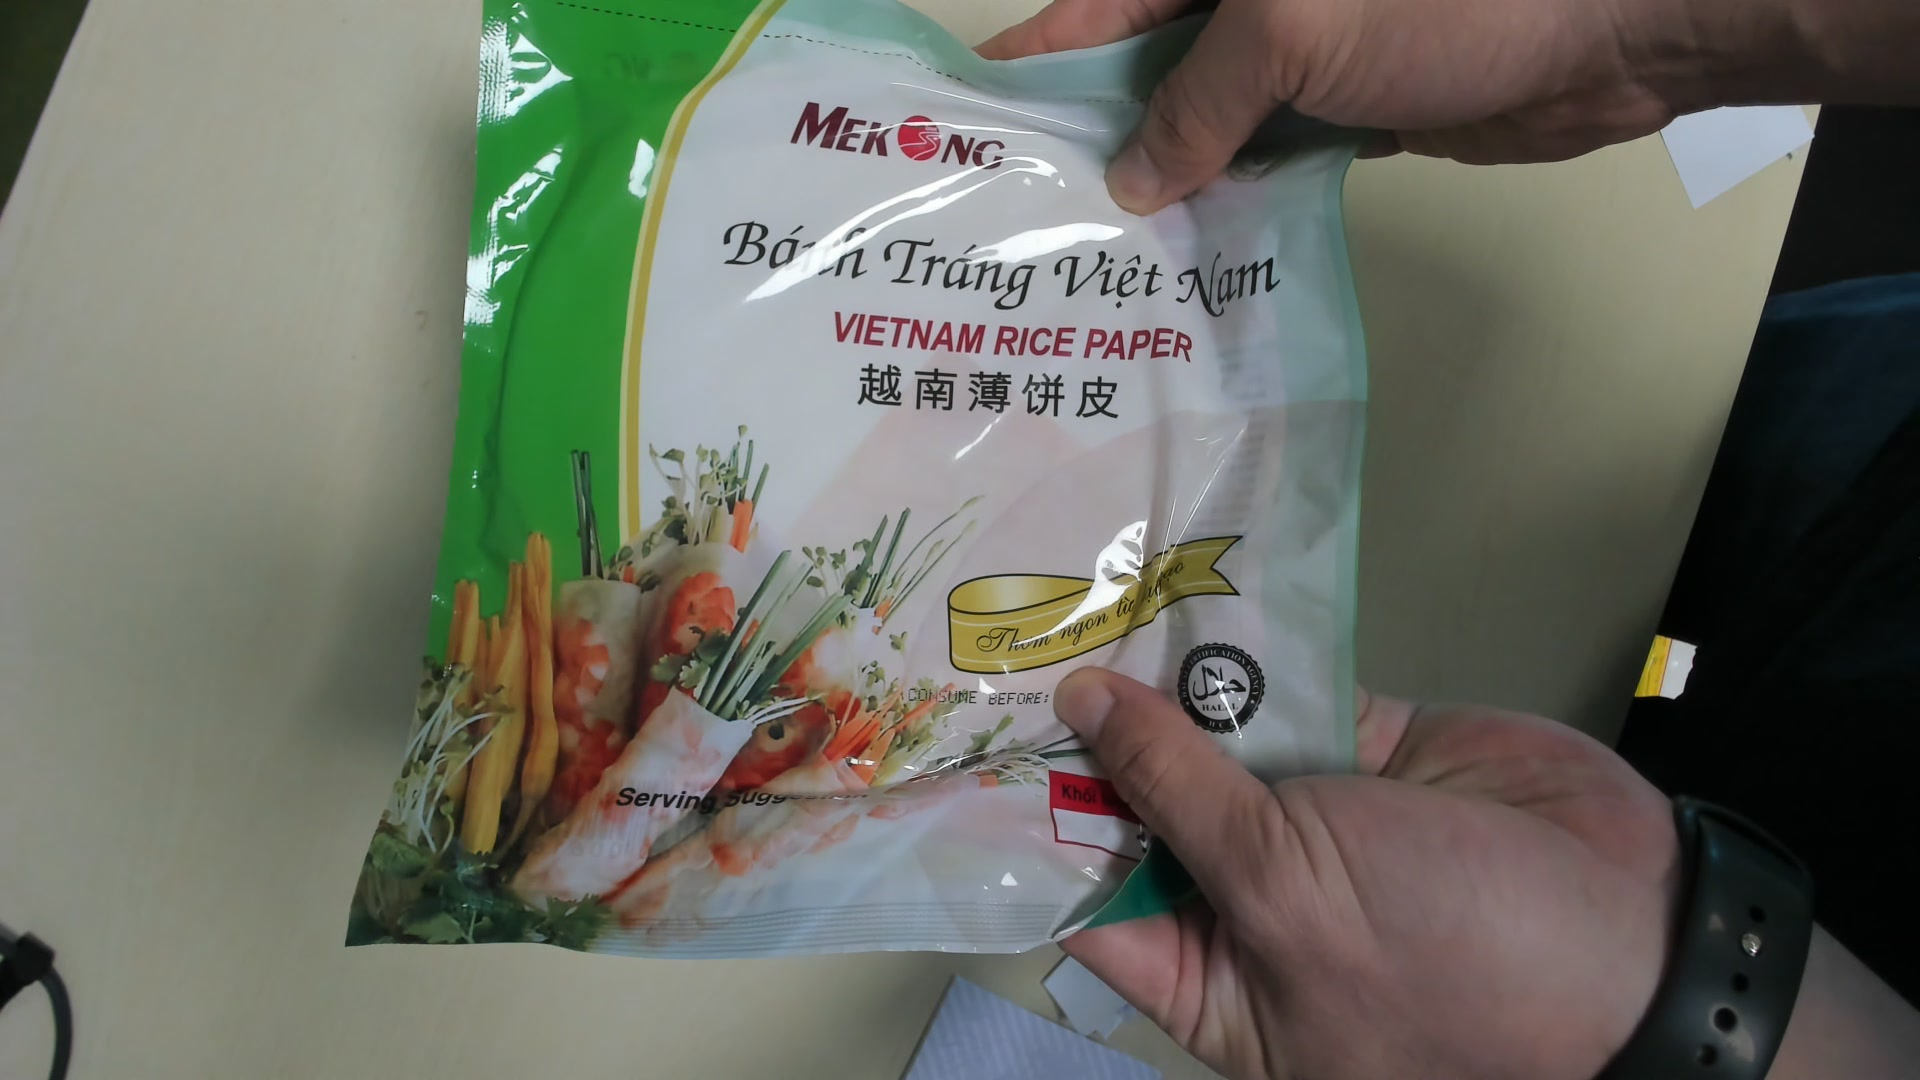InstantMeals_300_399g_NonHalal_NonHealthy: (351, 5, 1370, 975)
